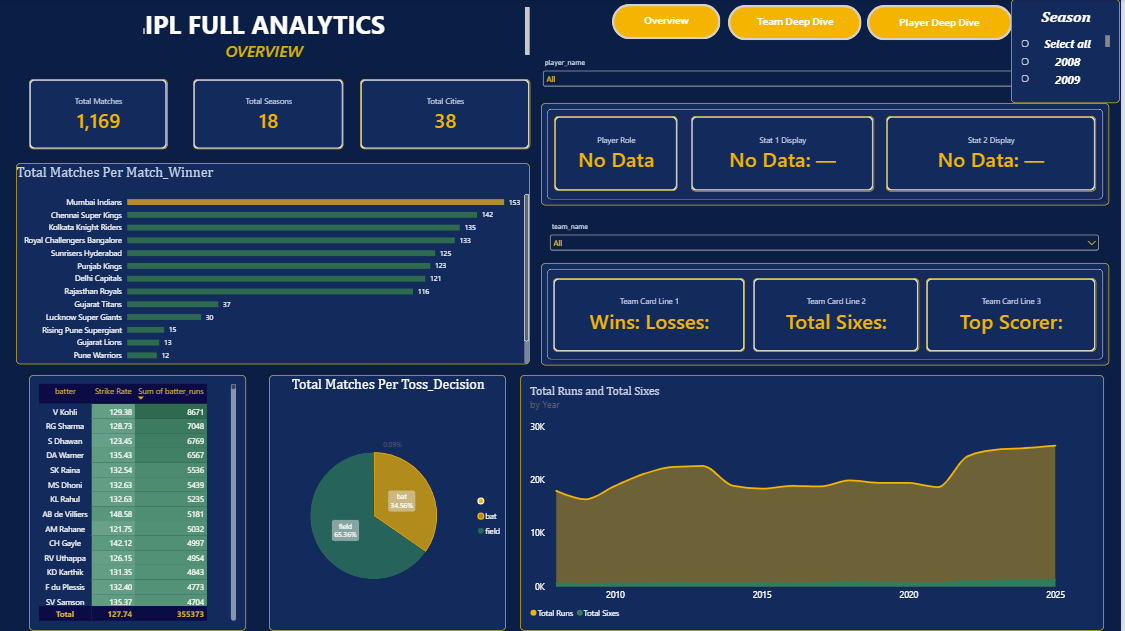

What the dashboard file says about the page in this screenshot:
{"tool":"powerbi","page":{"name":"Overview","canvas":[1920,1080],"ordinal":4},"visuals":[{"type":"slicer","fields":{"Values":["players-data-updated.player_name"]},"box":[926.2,102.5,929.5,68.5],"z":0},{"type":"shape","box":[927.9,177.7,970.6,175],"z":0,"group":"g5"},{"type":"shape","box":[926.2,442.4,970.6,175],"z":0,"group":"g6"},{"type":"textbox","box":[9.3,13,900,95],"z":1000},{"type":"cardVisual","fields":{"Data":["ball_by_ball_data.Player Role"]},"box":[950.1,199.9,211.1,128.3],"z":1000,"group":"g5"},{"type":"group","id":"g1","title":"Group 4","box":[1049.8,9.3,685.1,61.1],"z":2000},{"type":"cardVisual","fields":{"Data":["ipl_matches_data.Total Matches Display"]},"box":[53,136.7,237,120.3],"z":3000},{"type":"cardVisual","fields":{"Data":["ipl_matches_data.Total Seasons"]},"box":[333.3,137,257.4,120.3],"z":4000},{"type":"cardVisual","fields":{"Data":["ipl_matches_data.Total Cities"]},"box":[618.4,137,290.7,120.3],"z":5000},{"type":"actionButton","box":[1049.8,9.3,185.4,60.2],"z":6000,"group":"g4"},{"type":"group","id":"g2","title":"Group 2","box":[1237.2,11,250,60],"z":6000,"group":"g1"},{"type":"actionButton","box":[1248.3,11,228.4,60.2],"z":6000,"group":"g2"},{"type":"actionButton","box":[1485.6,11,248.8,60.2],"z":6000,"group":"g3"},{"type":"clusteredBarChart","title":"Total Matches Per Match_Winner","fields":{"Category":["ipl_matches_data.match_winner"],"Y":["ipl_matches_data.Total Matches"]},"box":[30.8,280.3,877.6,344.4],"z":6000},{"type":"textbox","box":[1078.7,25.2,127.6,28.4],"z":7000,"group":"g4"},{"type":"textbox","box":[1237.2,26.9,250.5,28.4],"z":7000,"group":"g2"},{"type":"group","id":"g3","title":"Group 3","box":[1485.6,11,249.5,59.8],"z":7750,"group":"g1"},{"type":"group","id":"g4","title":"Group 1","box":[1049.8,9.3,185,60],"z":8000,"group":"g1"},{"type":"pieChart","title":"Total Matches Per Toss_Decision","fields":{"Category":["ipl_matches_data.toss_decision"],"Y":["ipl_matches_data.Total Matches"]},"box":[440.9,637.4,405,437.5],"z":8000},{"type":"areaChart","fields":{"Category":["DateTable.Year"],"Y":["Date Table.Total Runs","Date Table.Total Sixes"]},"box":[873.2,637.4,1027,437.5],"z":9000},{"type":"slicer","fields":{"Values":["teams_data.team_name"]},"box":[938.2,382.8,948.4,68.4],"z":10000},{"type":"listSlicer","title":"Season","fields":{"Values":["ipl_matches_data.season"]},"box":[1760.1,0,157.2,157.2],"z":11000},{"type":"textbox","box":[1540.3,27.4,139.5,27.4],"z":11000,"group":"g3"},{"type":"cardVisual","fields":{"Data":["ipl_matches_data.Team Card Line 1"]},"box":[953.2,467.4,300.8,126.5],"z":11000,"group":"g6"},{"type":"group","id":"g5","title":"Group 5","box":[927.9,177.7,970.6,175],"z":12000},{"type":"cardVisual","title":"Total Sixes","fields":{"Data":["ipl_matches_data.Team Card Line 2"]},"box":[1264.2,465.7,268.3,126.5],"z":12000,"group":"g6"},{"type":"group","id":"g6","title":"Group 6","box":[926.2,442.4,970.6,175],"z":13000},{"type":"cardVisual","fields":{"Data":["ipl_matches_data.Team Card Line 3"]},"box":[1545.6,464.4,323,126.5],"z":13000,"group":"g6"},{"type":"pivotTable","fields":{"Rows":["ball_by_ball_data.batter"],"Values":["ball_by_ball_data.Strike Rate","Sum(ball_by_ball_data.batter_runs)"]},"box":[37.6,637.4,370.8,437.5],"z":14000},{"type":"cardVisual","fields":{"Data":["ball_by_ball_data.Stat 1 Display"]},"box":[1181,202.1,326.4,126.5],"z":16000,"group":"g5"},{"type":"cardVisual","fields":{"Data":["ball_by_ball_data.Stat 2 Display"]},"box":[1517.5,199.9,358.9,128.7],"z":17000,"group":"g5"}]}

Visuals, with their boxes in screenshot pixels (x1, y1, x2, y2), scaled from the page's 1920x1080 canvas onto the 1125x631 screenshot:
slicer - players-data-updated.player_name: bbox(543, 60, 1087, 100)
shape: bbox(544, 104, 1112, 206)
shape: bbox(543, 258, 1111, 361)
textbox: bbox(5, 8, 533, 63)
cardVisual - ball_by_ball_data.Player Role: bbox(557, 117, 680, 192)
"Group 4" group: bbox(615, 5, 1017, 41)
cardVisual - ipl_matches_data.Total Matches Display: bbox(31, 80, 170, 150)
cardVisual - ipl_matches_data.Total Seasons: bbox(195, 80, 346, 150)
cardVisual - ipl_matches_data.Total Cities: bbox(362, 80, 533, 150)
actionButton: bbox(615, 5, 724, 41)
"Group 2" group: bbox(725, 6, 871, 41)
actionButton: bbox(731, 6, 865, 42)
actionButton: bbox(870, 6, 1016, 42)
"Total Matches Per Match_Winner" clusteredBarChart: bbox(18, 164, 532, 365)
textbox: bbox(632, 15, 707, 31)
textbox: bbox(725, 16, 872, 32)
"Group 3" group: bbox(870, 6, 1017, 41)
"Group 1" group: bbox(615, 5, 724, 40)
"Total Matches Per Toss_Decision" pieChart: bbox(258, 372, 496, 628)
areaChart - DateTable.Year x Date Table.Total Runs: bbox(512, 372, 1113, 628)
slicer - teams_data.team_name: bbox(550, 224, 1105, 264)
"Season" listSlicer: bbox(1031, 0, 1123, 92)
textbox: bbox(903, 16, 984, 32)
cardVisual - ipl_matches_data.Team Card Line 1: bbox(559, 273, 735, 347)
"Group 5" group: bbox(544, 104, 1112, 206)
"Total Sixes" cardVisual: bbox(741, 272, 898, 346)
"Group 6" group: bbox(543, 258, 1111, 361)
cardVisual - ipl_matches_data.Team Card Line 3: bbox(906, 271, 1095, 345)
pivotTable - ball_by_ball_data.batter x ball_by_ball_data.Strike Rate: bbox(22, 372, 239, 628)
cardVisual - ball_by_ball_data.Stat 1 Display: bbox(692, 118, 883, 192)
cardVisual - ball_by_ball_data.Stat 2 Display: bbox(889, 117, 1099, 192)
